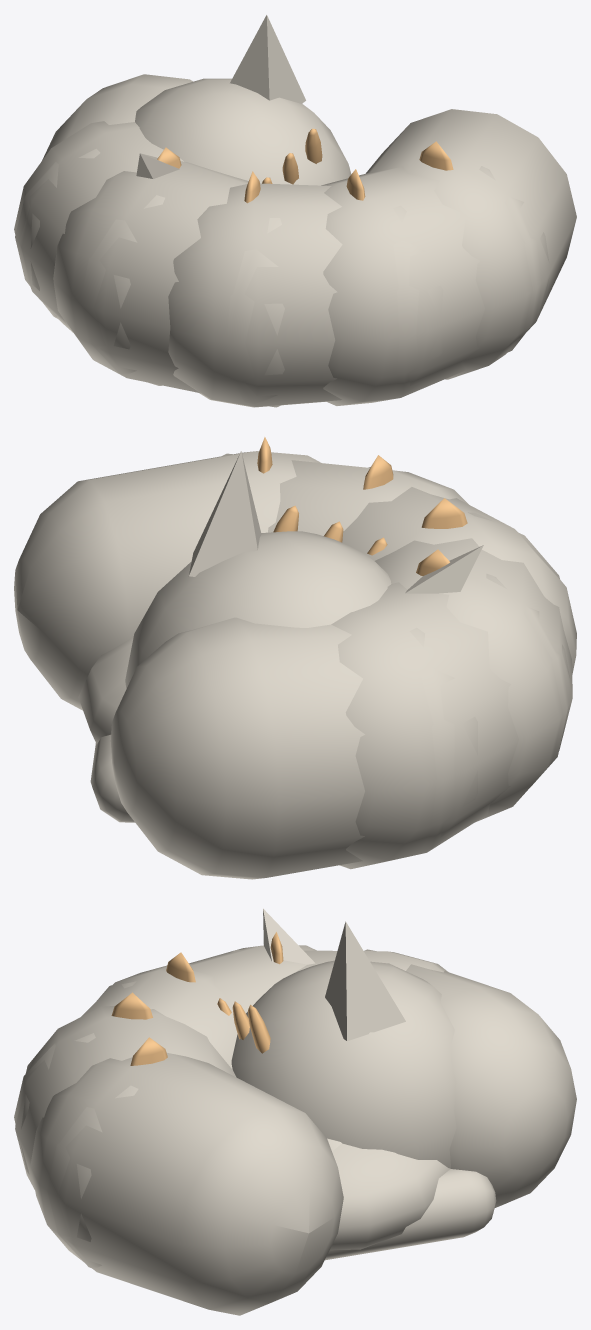
Rendered from companion-animals-and-pet-home-cat-sleeping-calico-ca67651d__20560.glb.
3 renders of one model, top to bottom at view 1: azimuth 30°, elevation 25°; view 2: azimuth 150°, elevation 25°; view 3: azimuth 270°, elevation 25°, orthographic. The views are drawn at different scales.
Parts seen in each view (by area): view 1: cat-sleeping-calico; view 2: cat-sleeping-calico; view 3: cat-sleeping-calico.
Boxes of the visible parts, left/top/right/bottom form: cat-sleeping-calico: left=14, top=15, right=576, bottom=407; cat-sleeping-calico: left=14, top=437, right=576, bottom=879; cat-sleeping-calico: left=14, top=908, right=576, bottom=1315.
Bounding box in the file's own units: 0.3581 × 0.2248 × 0.3581.
